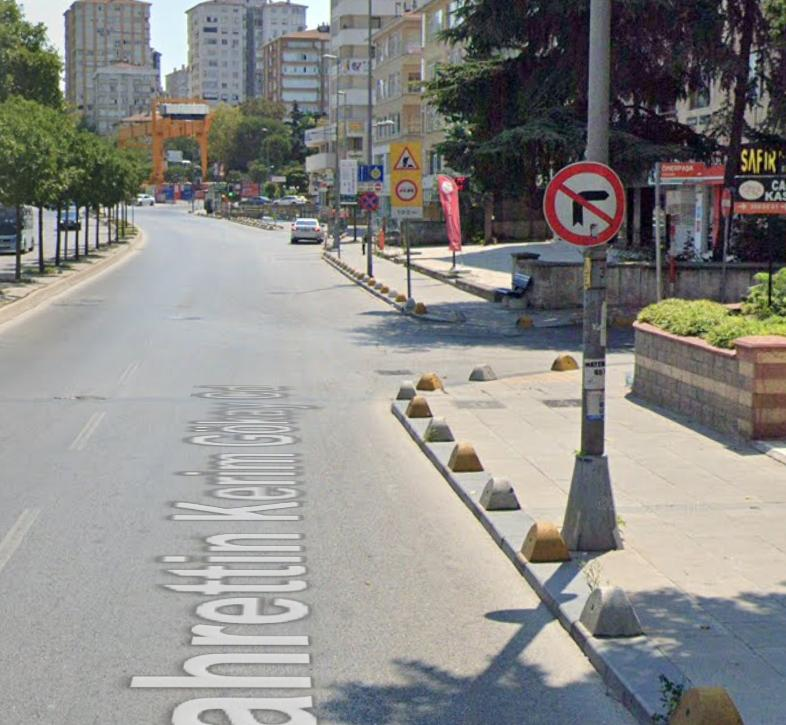rightturnsareforbidden: (548, 159, 626, 247)
